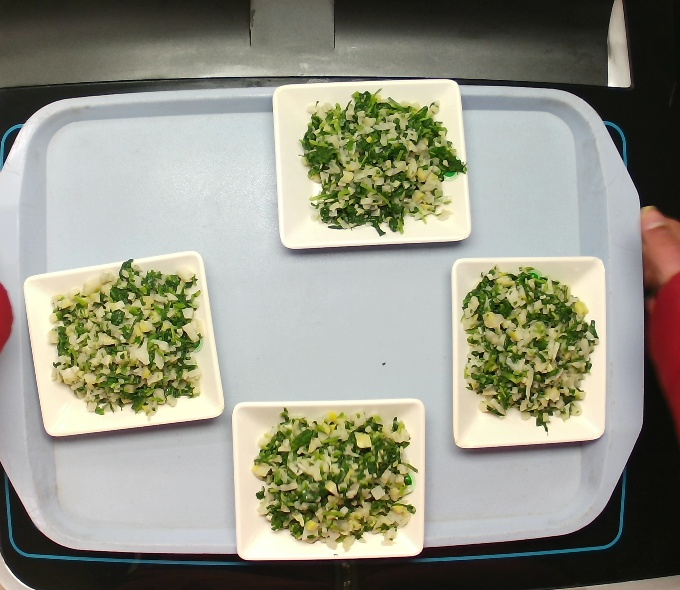wcq-MaLanTouBanChunSun: (284, 77, 475, 255), (239, 402, 427, 552), (38, 260, 206, 417), (455, 259, 599, 438)
